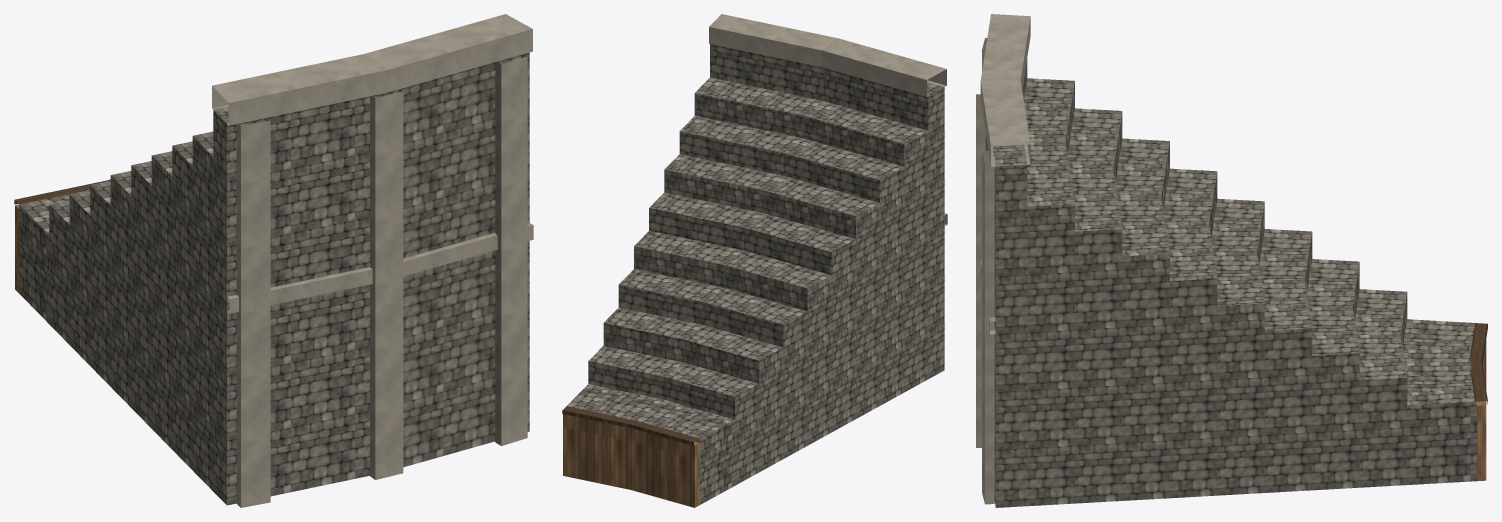
The model's file is Arena_Stands_1_LOD1.gltf.
3 renders of one model, left to right at view 1: azimuth 30°, elevation 25°; view 2: azimuth 150°, elevation 25°; view 3: azimuth 270°, elevation 25°, orthographic. The views are drawn at different scales.
Parts seen in each view (by area): view 1: Arena_Stands_1_LOD1; view 2: Arena_Stands_1_LOD1; view 3: Arena_Stands_1_LOD1.
Part boxes in pixels (x1,y1,x2,y2): Arena_Stands_1_LOD1: [14, 14, 533, 507]; Arena_Stands_1_LOD1: [562, 14, 947, 507]; Arena_Stands_1_LOD1: [976, 14, 1487, 507].
Bounding box in the file's own units: 9.84 × 12.5 × 16.04.
Materials: 4 (4 with a texture image).
